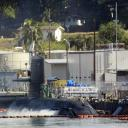submarine: (9, 57, 124, 117)
